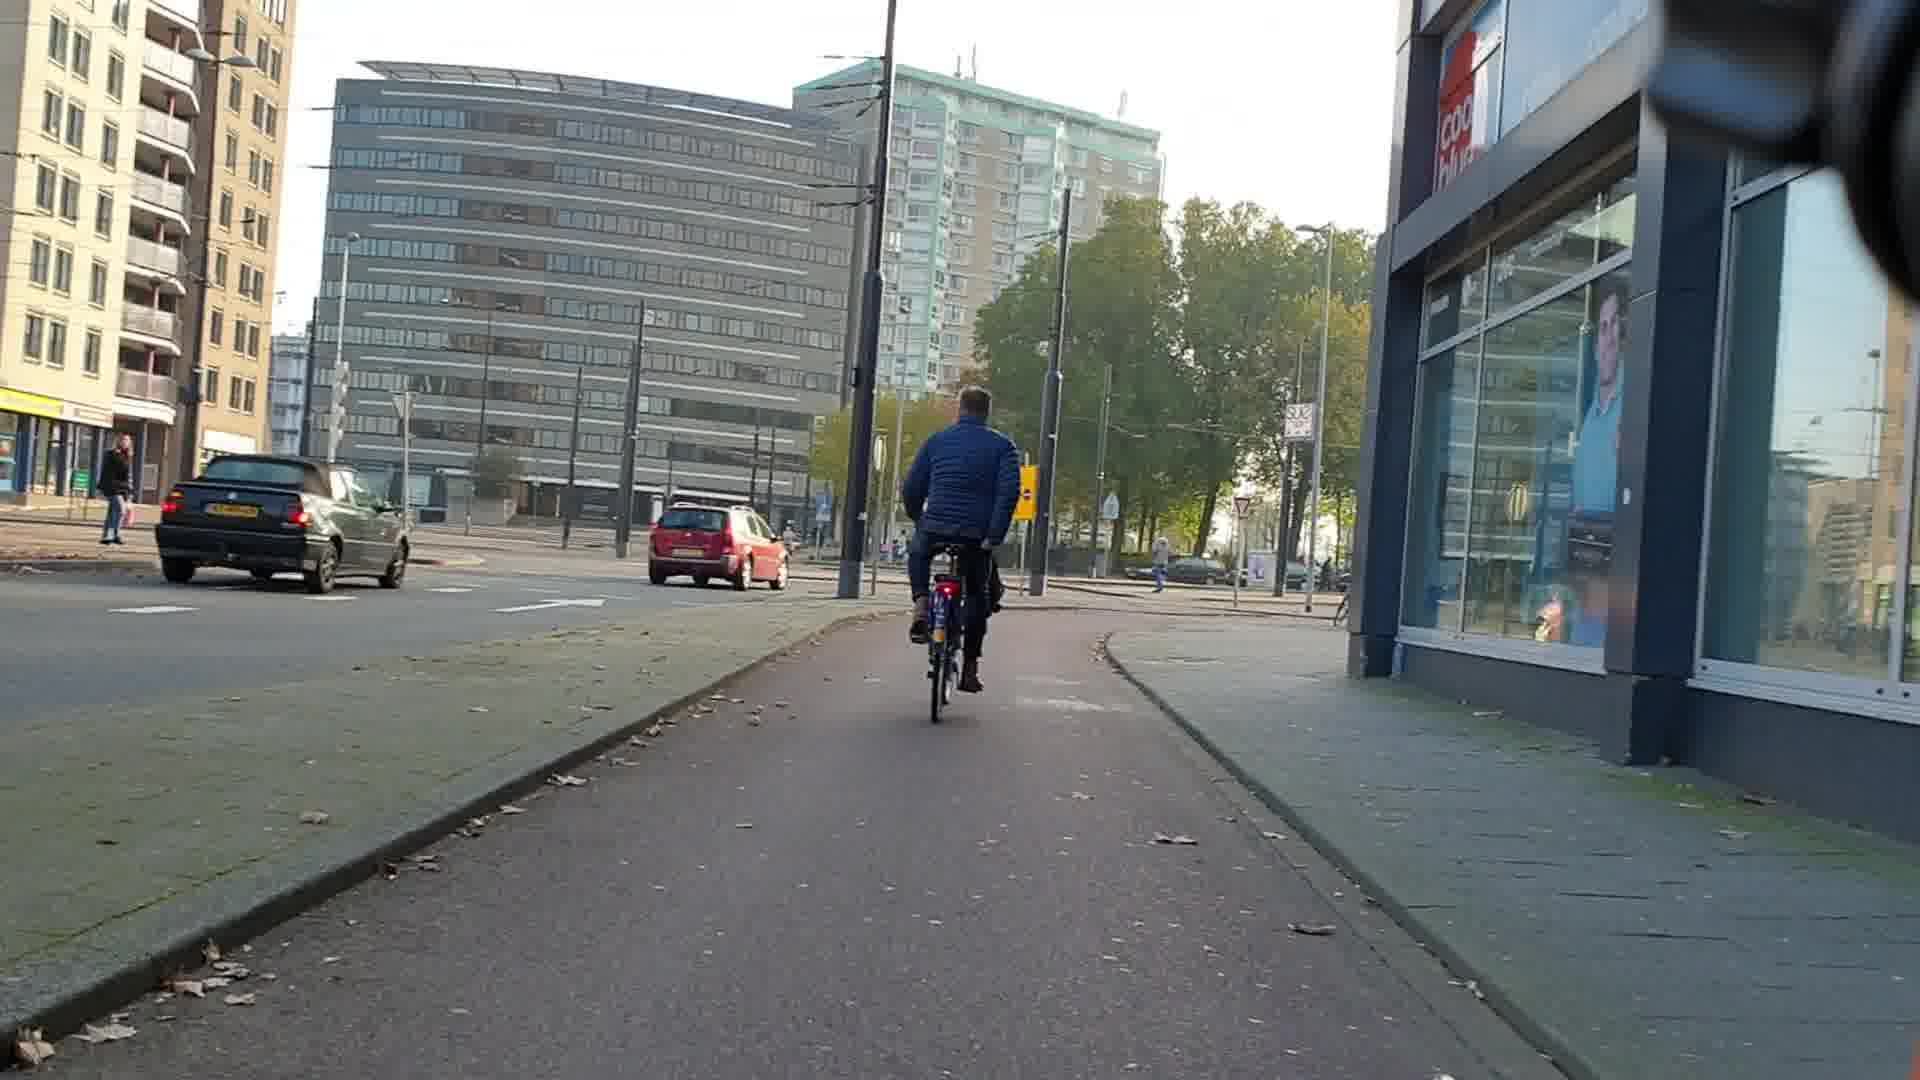car: (160, 450, 407, 593), (649, 502, 793, 593)
